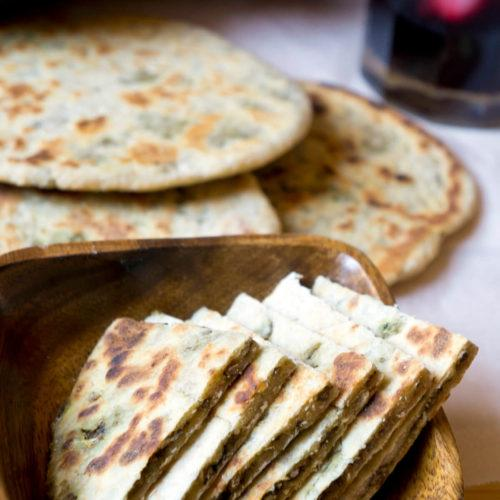chapati: (0, 17, 312, 191), (256, 83, 479, 284)
